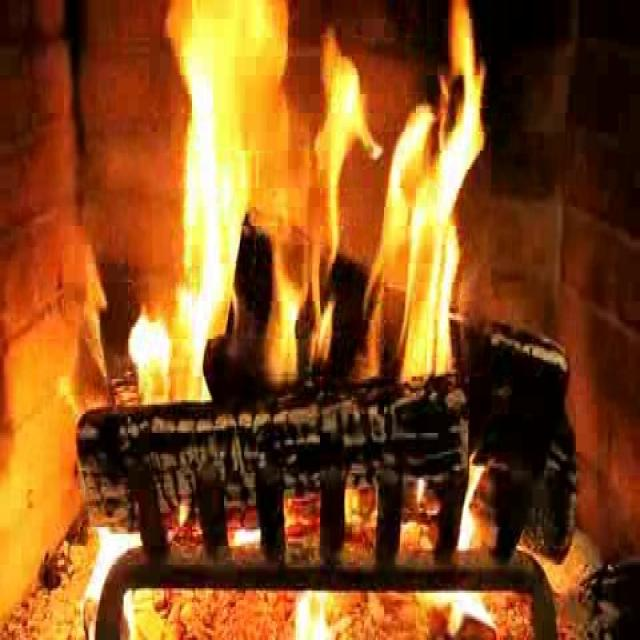fire: (153, 21, 474, 416)
